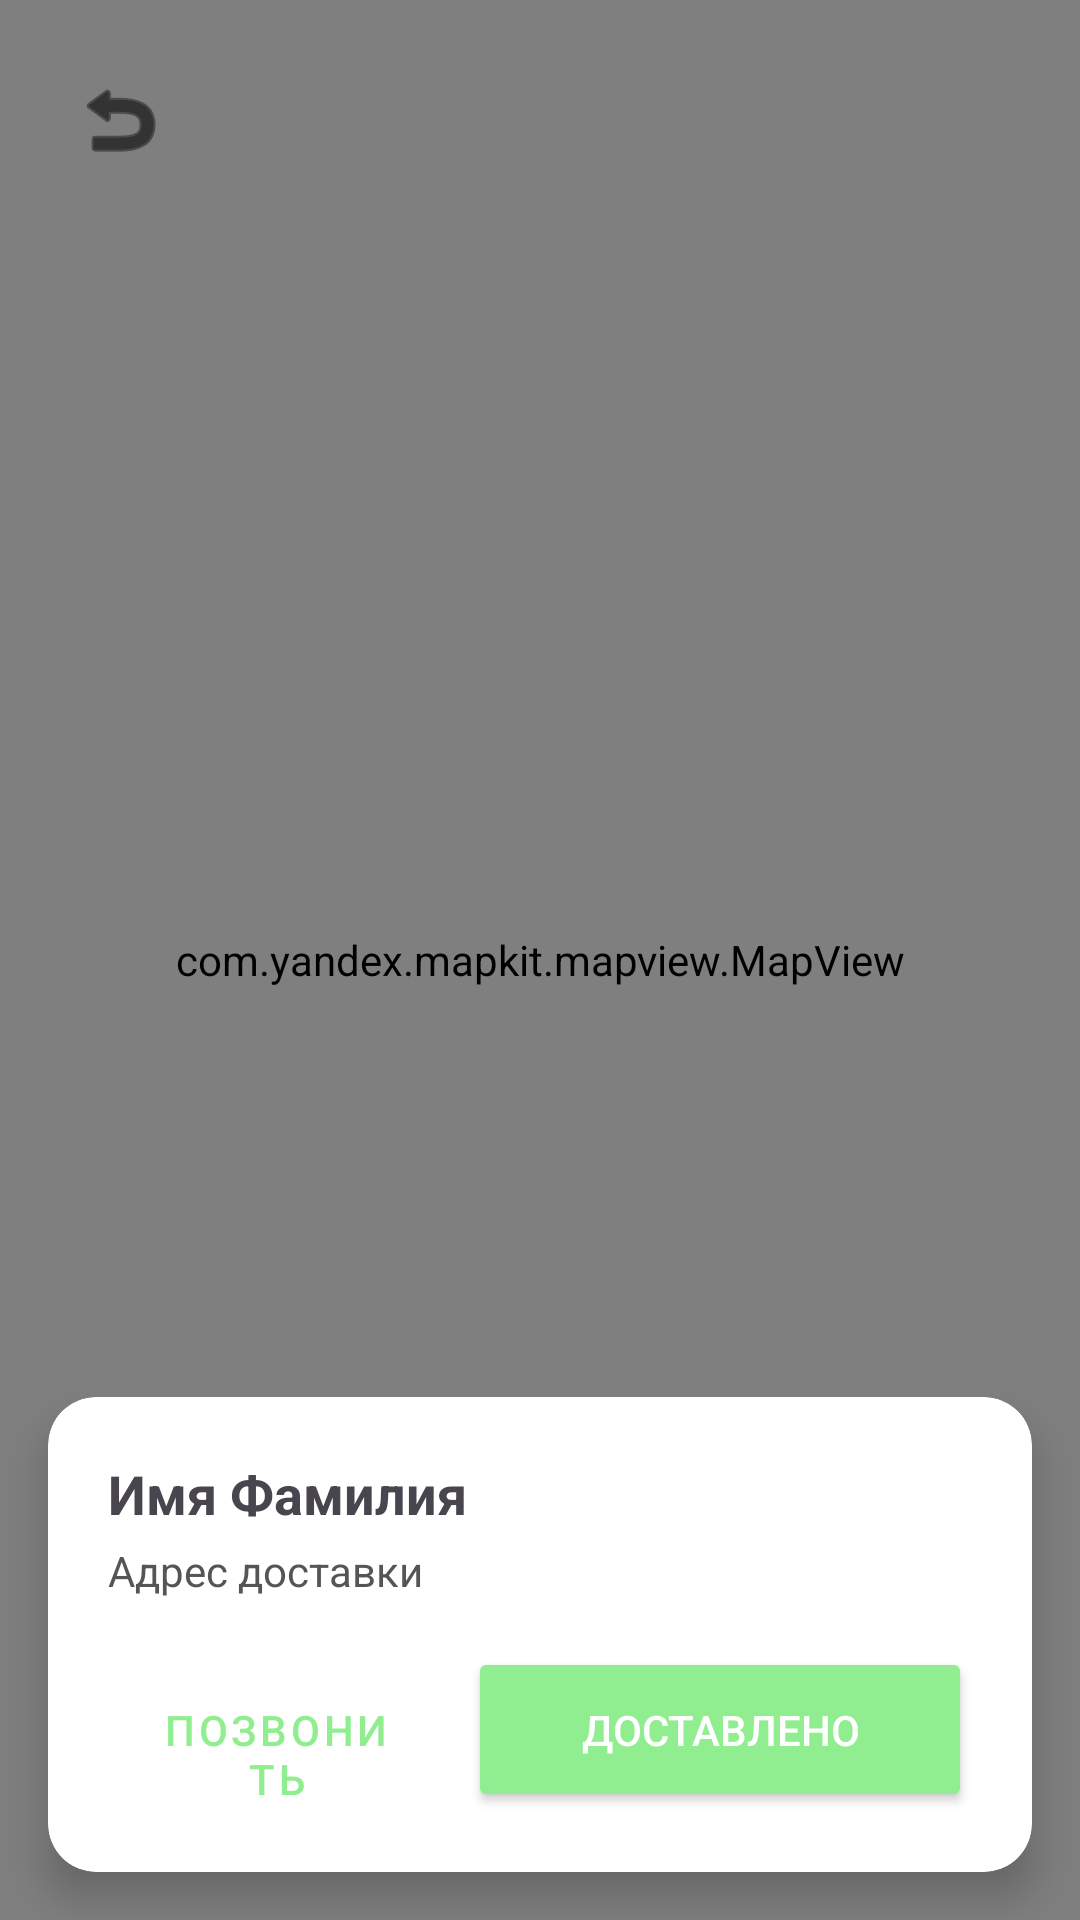

Icons on this 1080 x 1920 Android screen, each with its box as (x1, y1, x2, y2):
revert: (87, 90, 156, 152)
